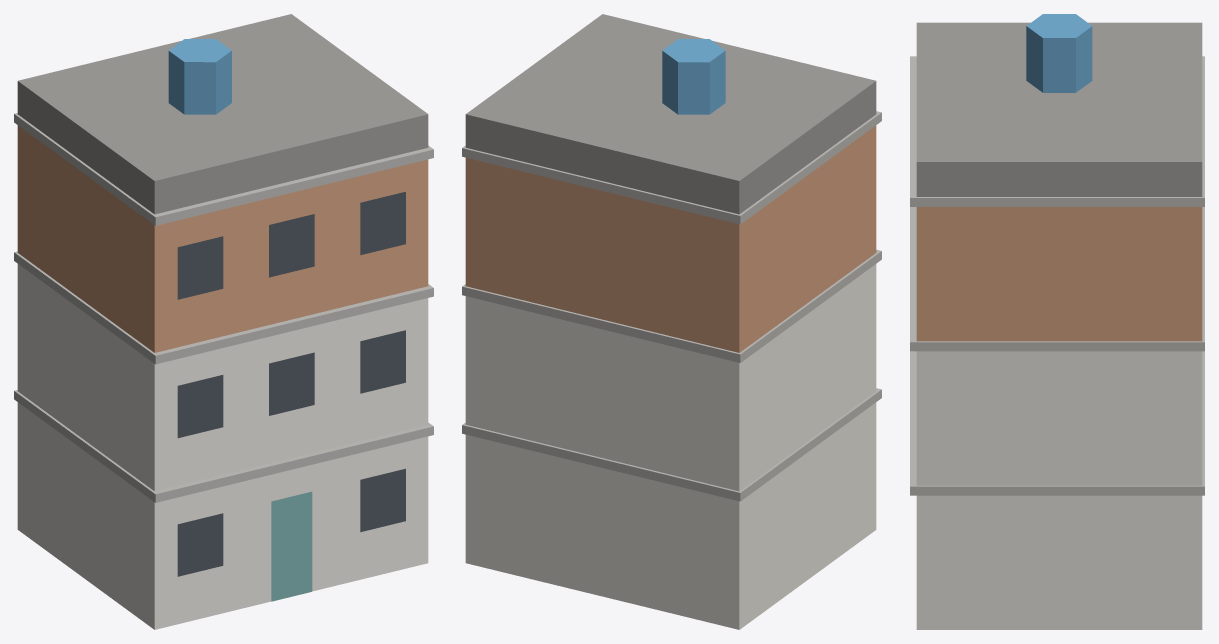
The picture shows the model from 3 angles, left to right: view 1: azimuth 30°, elevation 25°; view 2: azimuth 150°, elevation 25°; view 3: azimuth 270°, elevation 25°; orthographic projection. The views are drawn at different scales.
Visible parts, largest first — view 1: fv_h11.lod1; view 2: fv_h11.lod1; view 3: fv_h11.lod1.
Boxes of the visible parts, x1=… form: fv_h11.lod1: x1=14, y1=14, x2=433, y2=629; fv_h11.lod1: x1=462, y1=14, x2=881, y2=629; fv_h11.lod1: x1=910, y1=14, x2=1204, y2=629.
Size of the model in its own units: 6.1 by 10.5 by 5.37.
